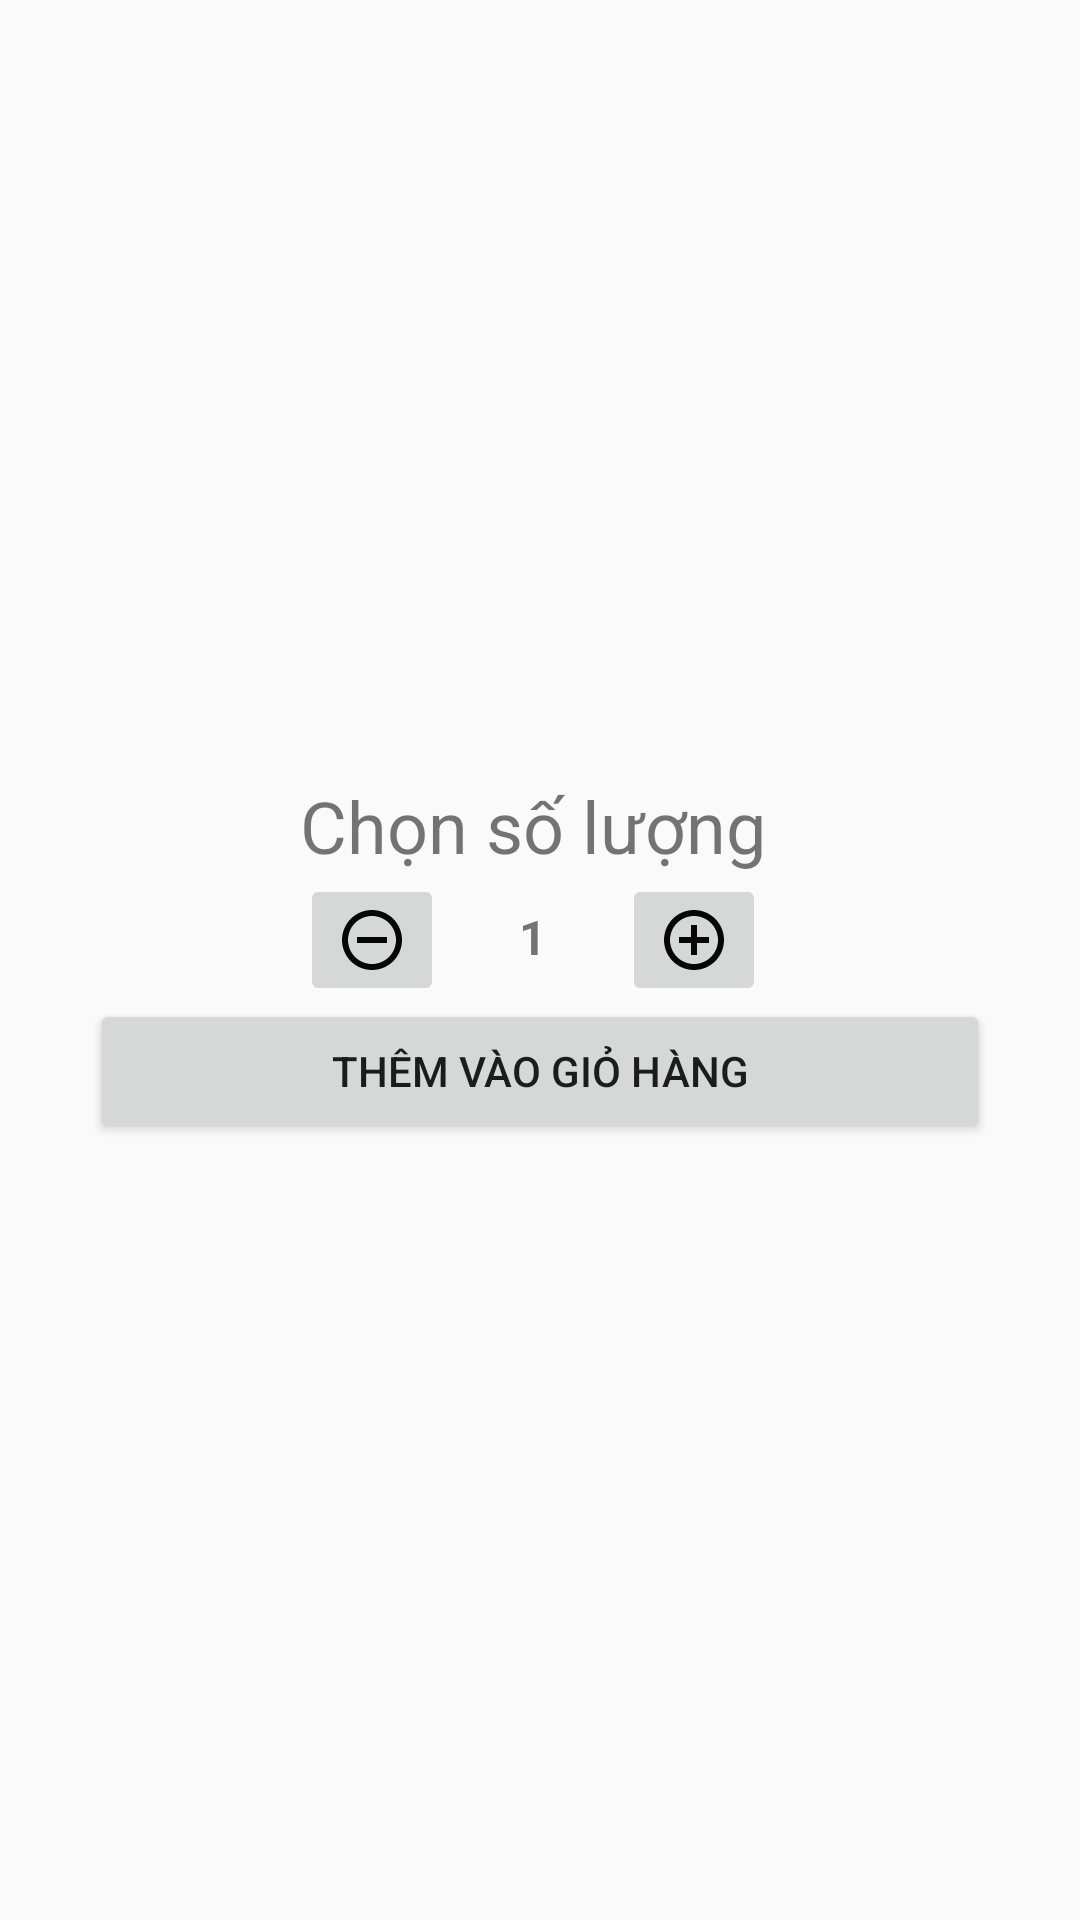

Where to tap for icons on this 1080*1920 app screen, as (x=x, y=y):
add: (x=694, y=940)
remove circle: (x=372, y=940)
